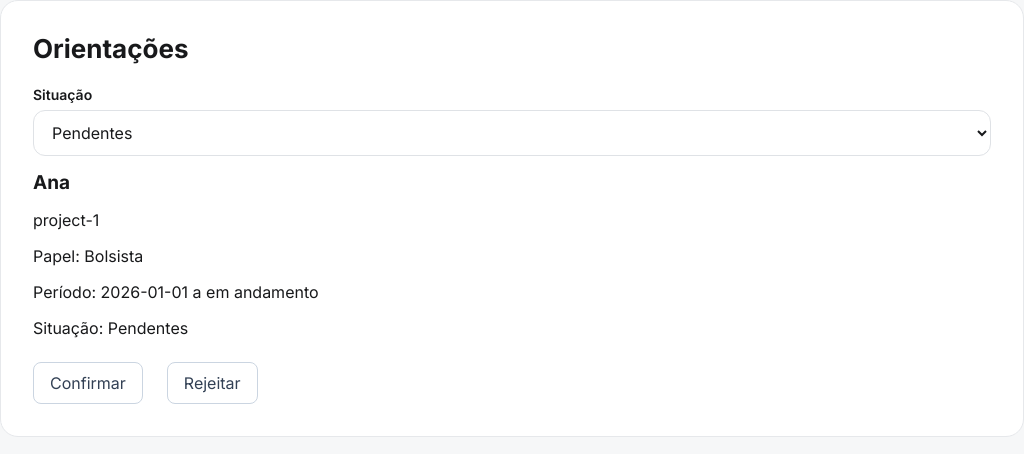
revisa com Rejeitar e atualiza pendências
This screenshot has width=1024, height=454.
Click the button "Rejeitar" at {"x": 212, "y": 383}, box [167,362,258,404]
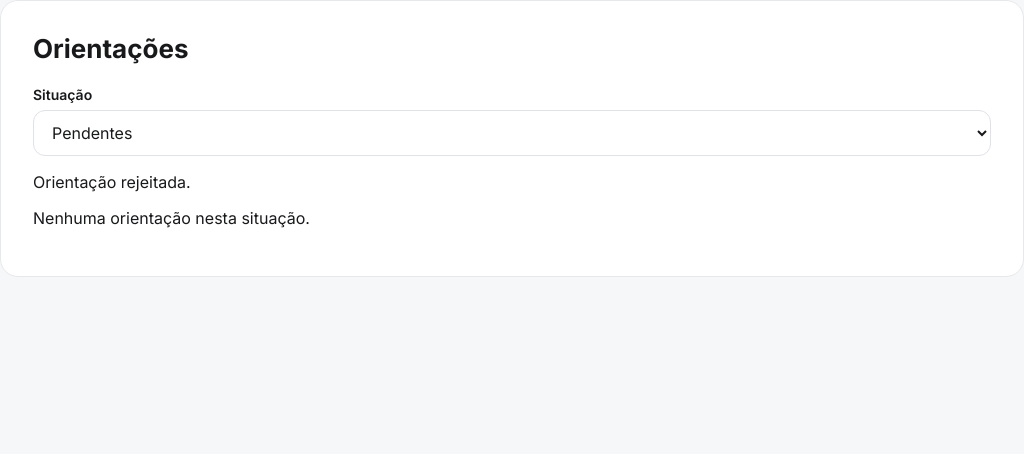
Now the text "Nenhuma orientação nesta situação." is shown, box [33,208,310,228]
Now the text "Orientação rejeitada." is shown, box [33,172,191,192]
